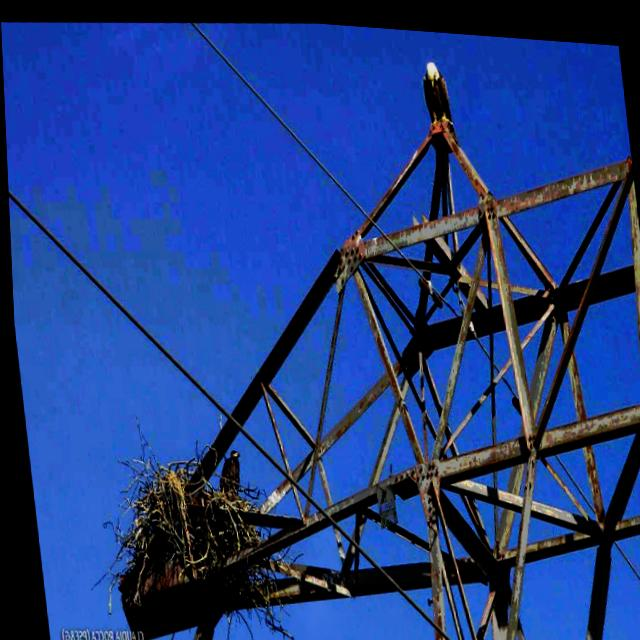obstruction: (109, 472, 347, 640)
poles: (456, 150, 640, 418), (522, 452, 640, 640), (357, 232, 449, 460), (440, 466, 521, 640)
wires: (7, 191, 206, 400), (187, 19, 338, 182)
